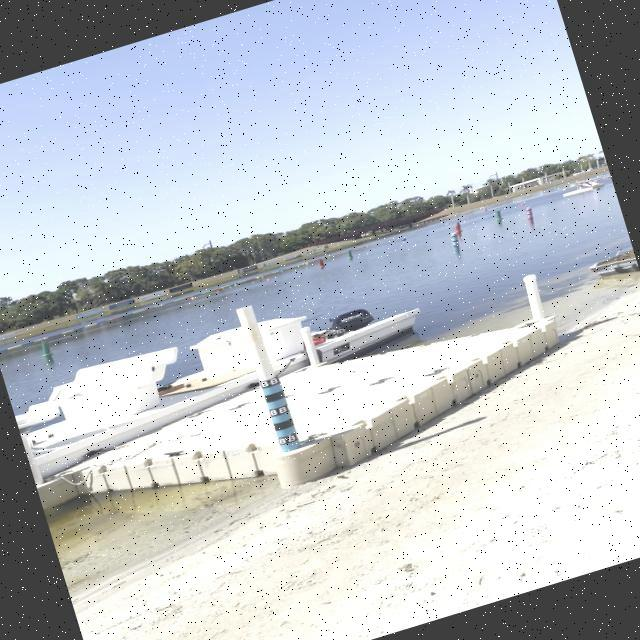buoy: (400, 236, 408, 242)
